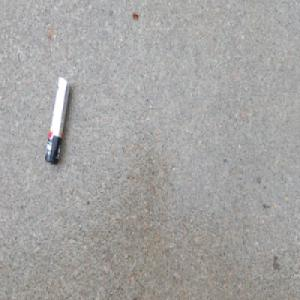Battery: (43, 75, 71, 167)
